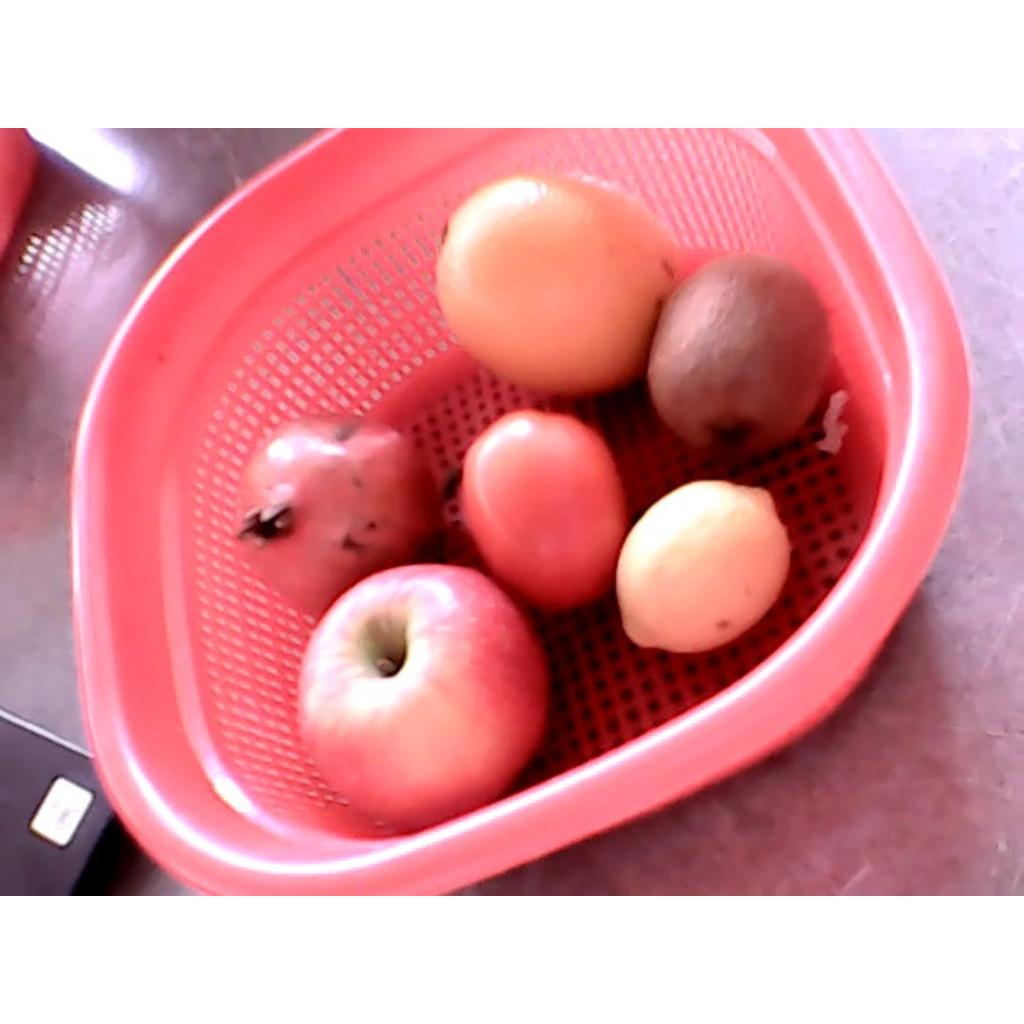apple: (294, 564, 554, 827)
kiwi: (647, 252, 830, 455)
lemon: (616, 479, 791, 655)
orange: (435, 172, 685, 396)
pomegranate: (228, 409, 440, 617)
tomato: (461, 409, 629, 614)
